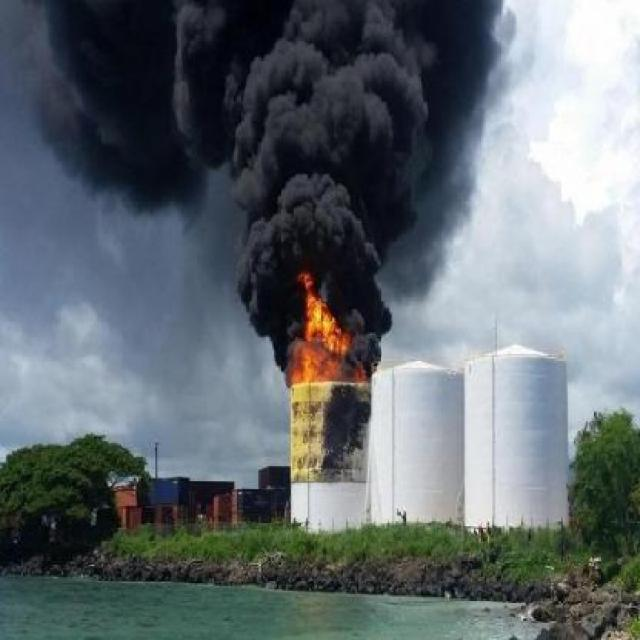Fire: (284, 274, 368, 386)
Smoke: (22, 16, 538, 268)
